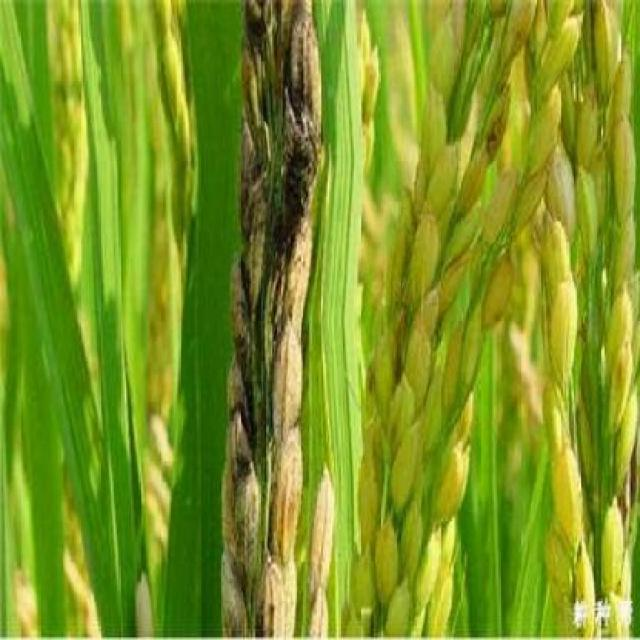rice-bug: (277, 83, 331, 263)
